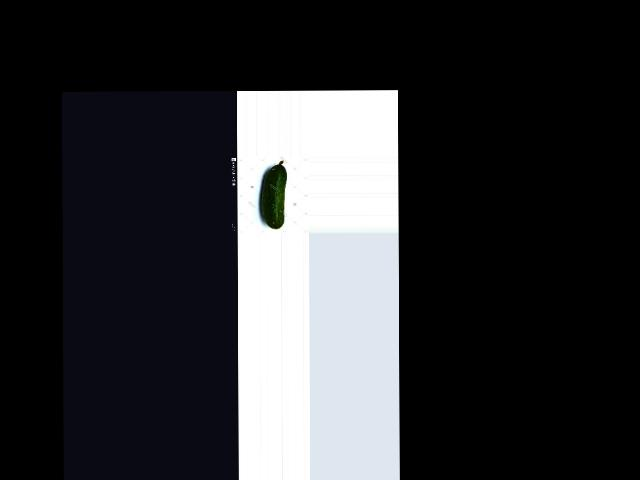cucumber: (260, 160, 287, 229)
